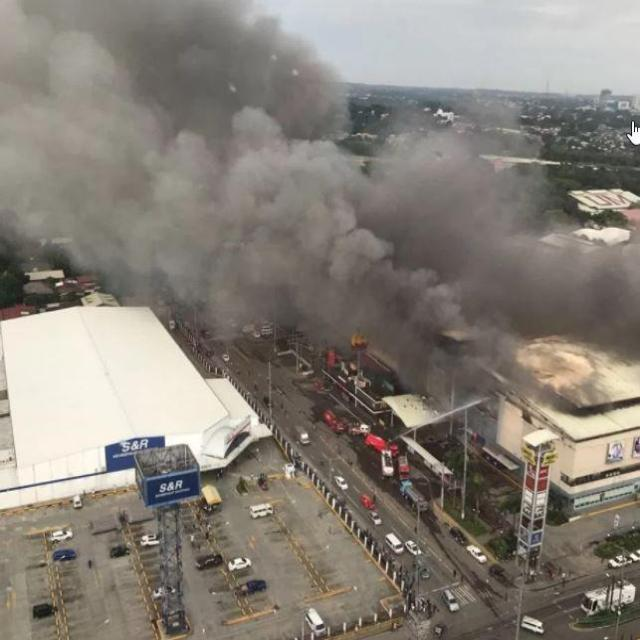Smoke: (68, 0, 326, 302), (0, 0, 216, 260), (338, 160, 496, 359), (500, 221, 640, 353)
